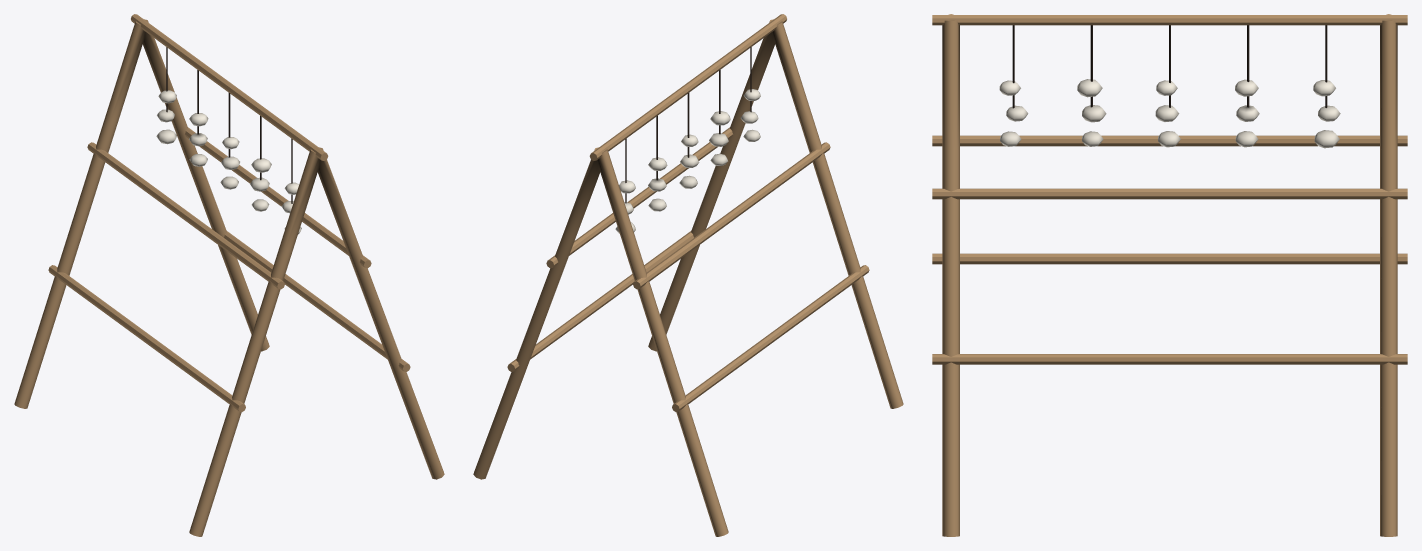
File: cook_rack.glb
3 renders of one model, left to right at view 1: azimuth 30°, elevation 25°; view 2: azimuth 150°, elevation 25°; view 3: azimuth 270°, elevation 25°, orthographic. The views are drawn at different scales.
Visible parts, largest first — view 1: PART; view 2: PART; view 3: PART.
Part boxes in pixels (x1=…): PART: x1=14, y1=14, x2=444, y2=536; PART: x1=473, y1=14, x2=903, y2=536; PART: x1=932, y1=14, x2=1407, y2=536.
Size of the model in its own units: 0.5864 by 0.7937 by 0.76.
